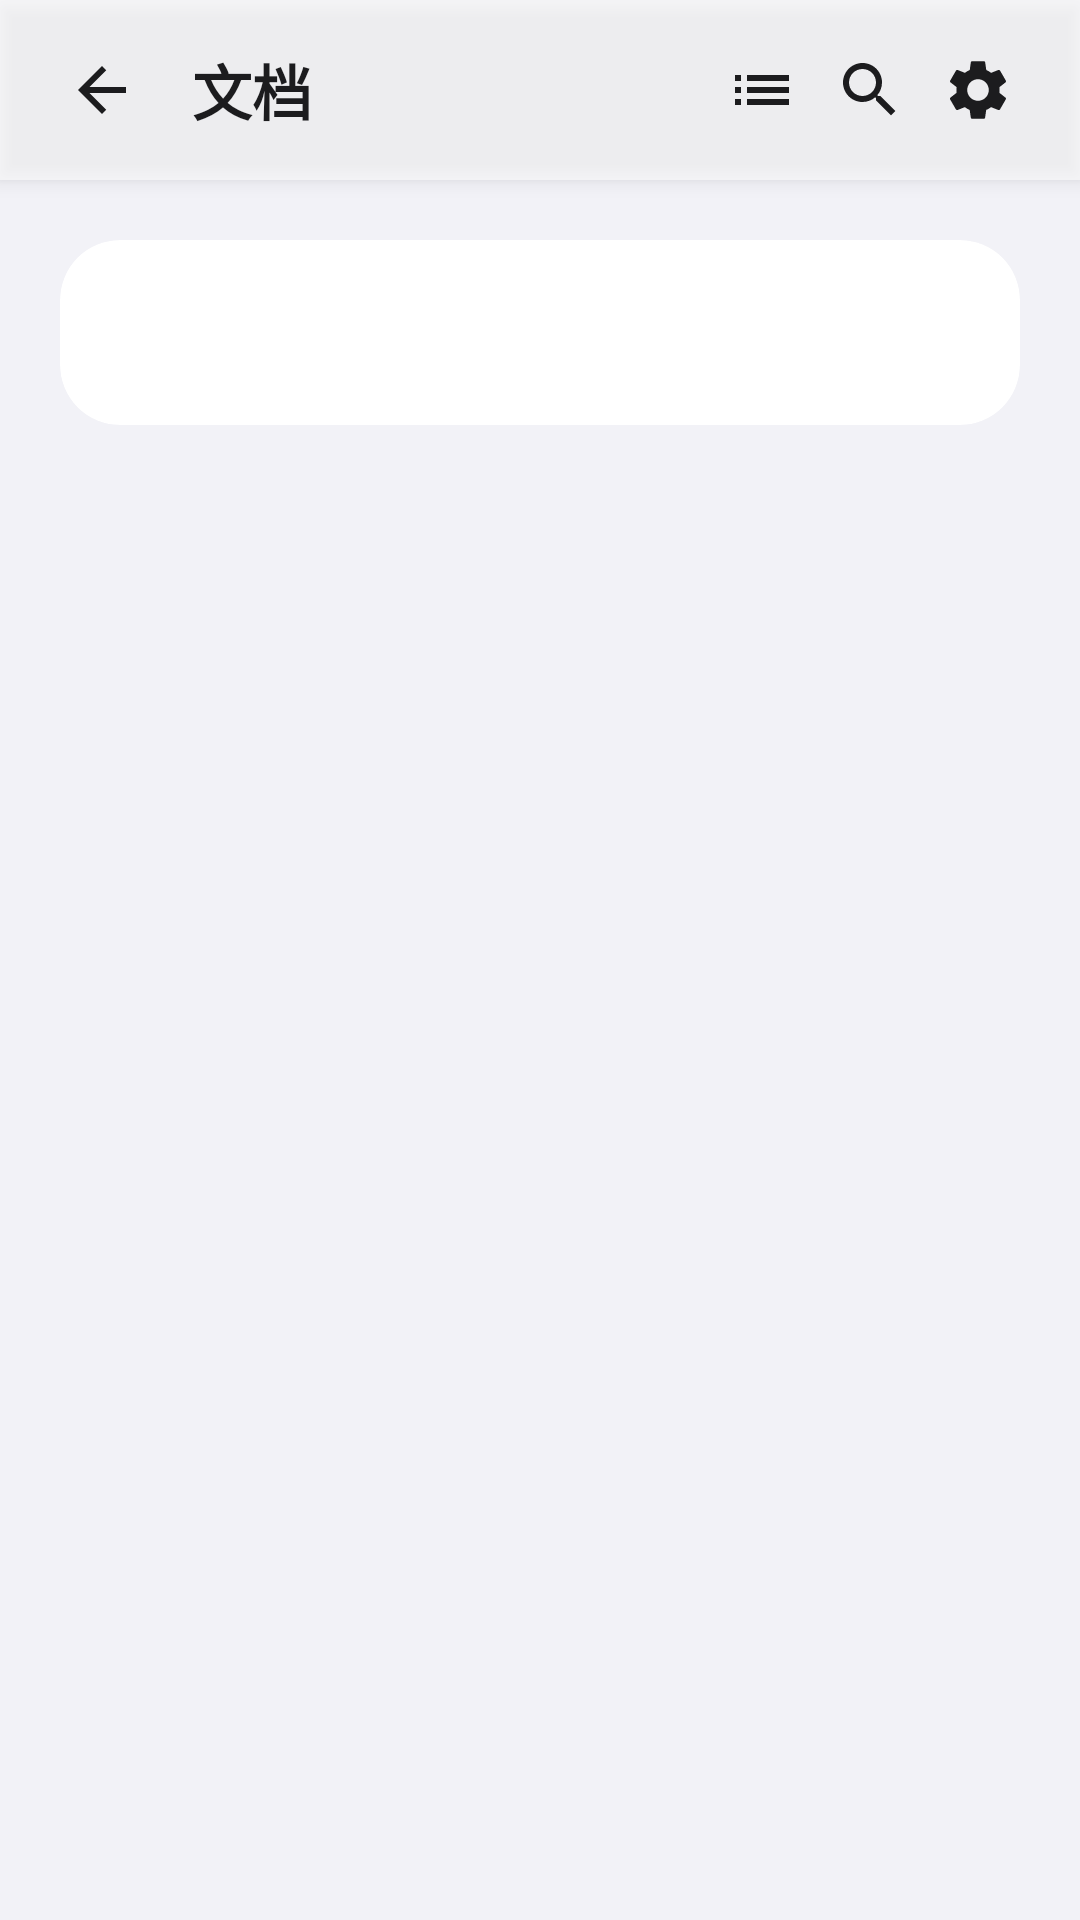

Screen size 1080 × 1920. Icon name, then its box in pixels as (x1, y1, x2, y2):
搜索: (843, 63, 895, 115)
目录: (735, 75, 789, 105)
设置: (950, 61, 1006, 119)
返回: (78, 66, 126, 114)
